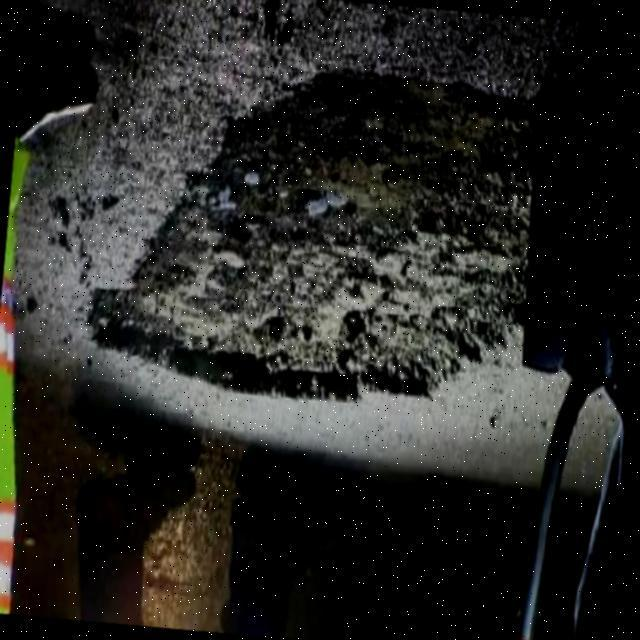Pothole: (87, 70, 531, 401)
